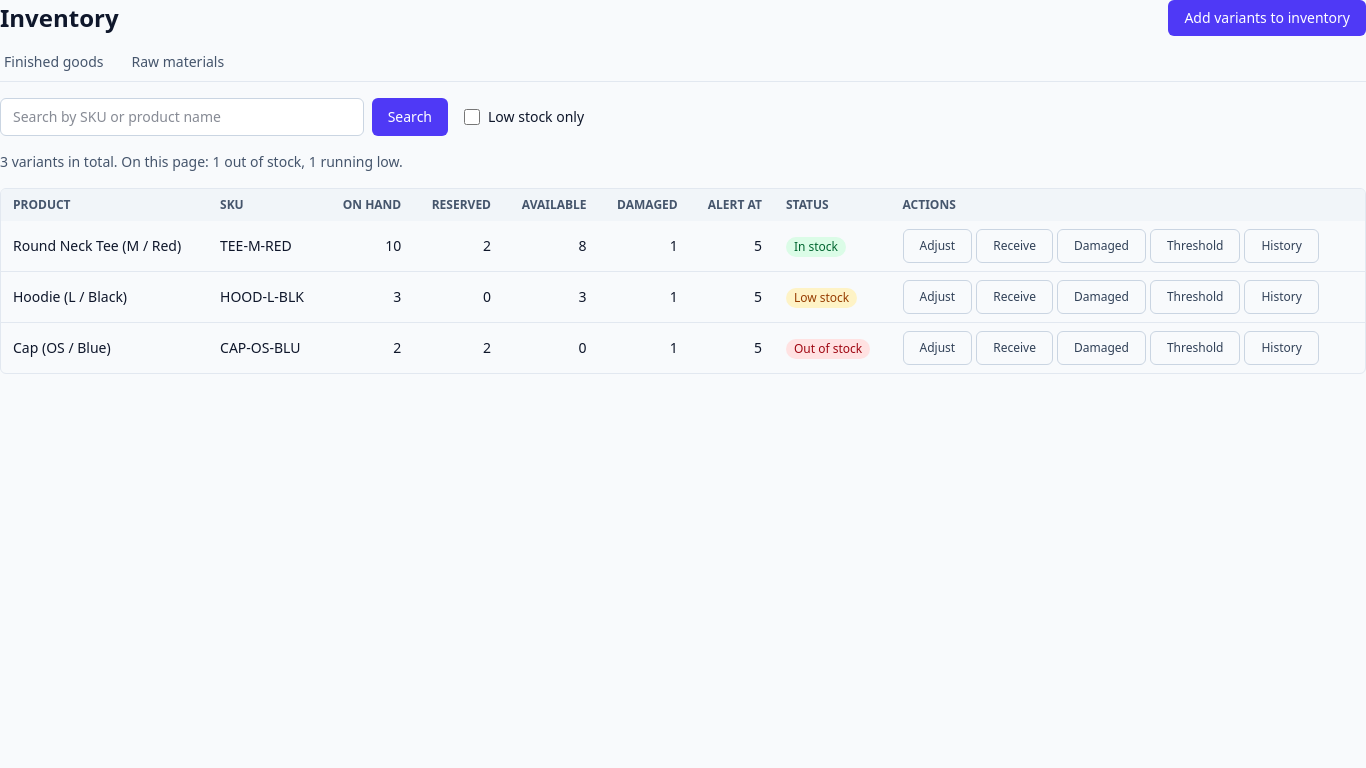
Test: StockDashboardPage › does not send an invalid adjustment and shows what is wrong
The image size is (1366, 768).
Click the button "Adjust" in the row of "Round Neck Tee (M / Red)" at (937, 246), box [903,229,972,263]
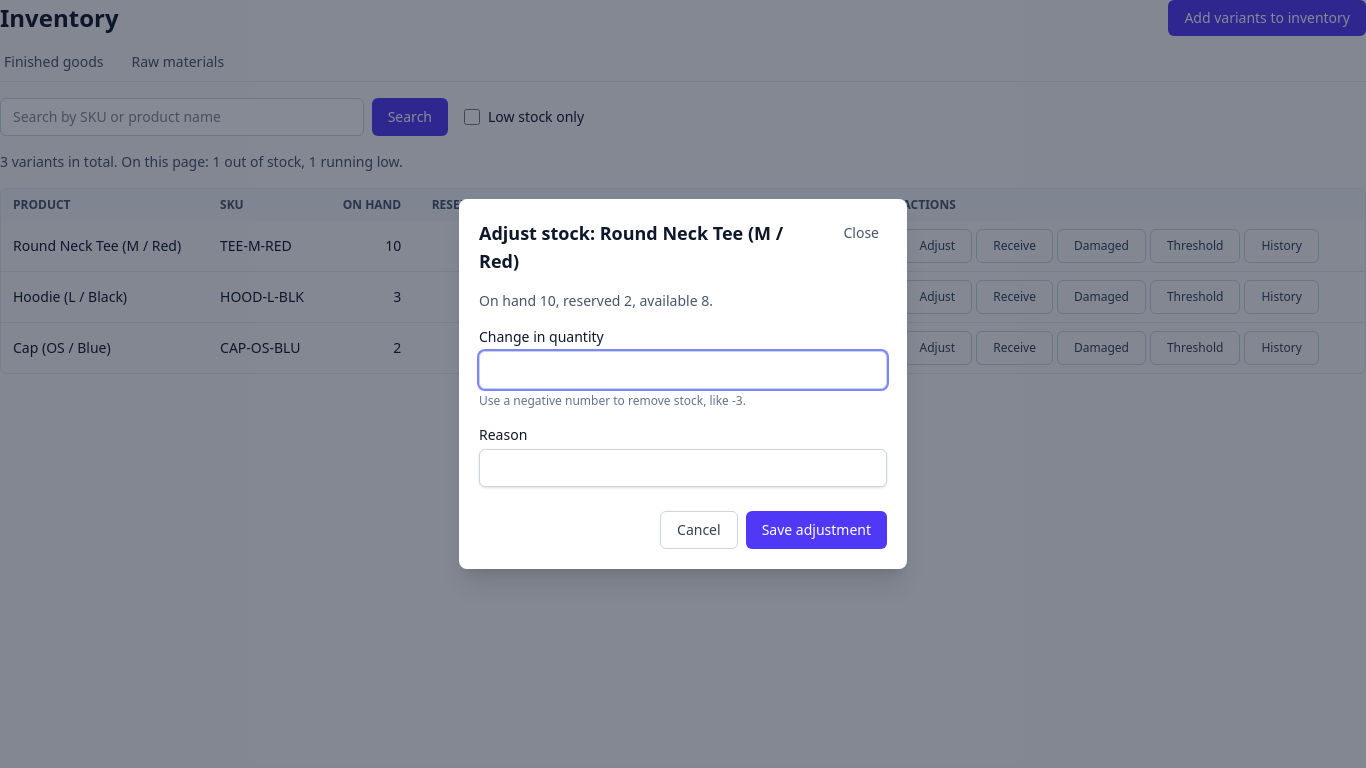
Click the button "Save adjustment" at (816, 530), box [746,511,887,549]
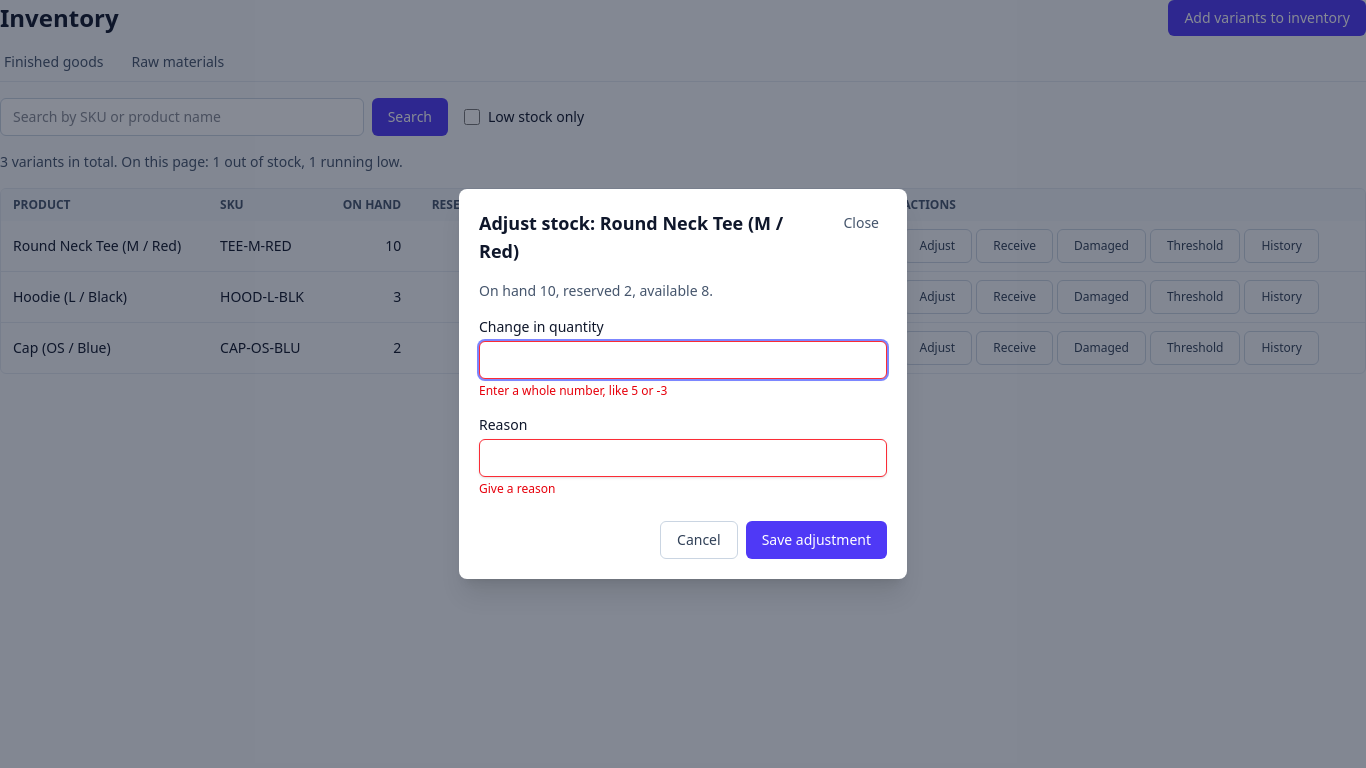
Expected: the text "Enter a whole number, like 5 or -3" is shown, [479,382,667,399]
Expected: the text "Give a reason" is shown, [479,480,555,497]
